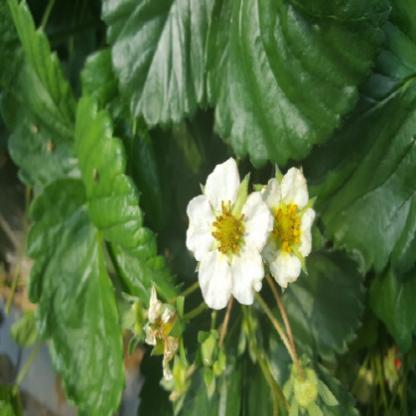Strawberry_Blossom_Blight: (206, 197, 249, 257), (269, 200, 304, 256)
